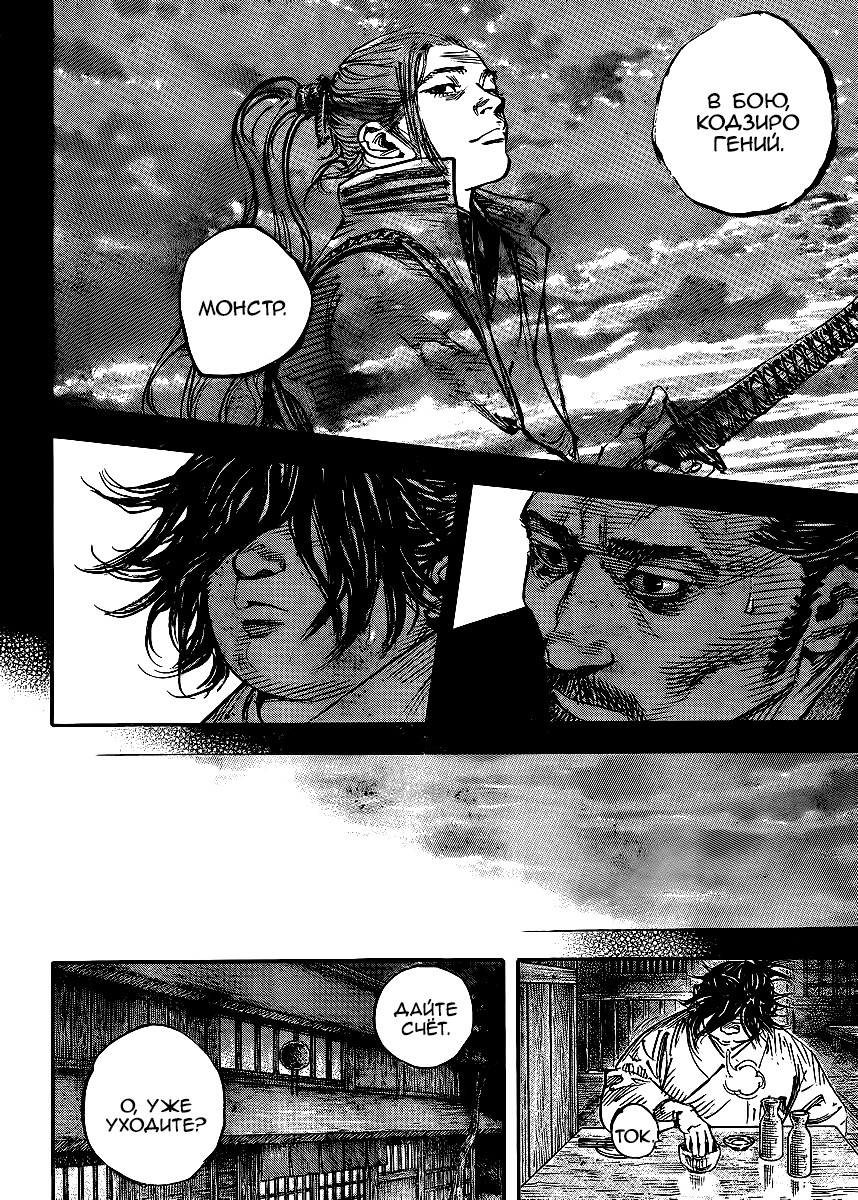frame: (52, 1, 858, 495), (49, 438, 459, 728), (51, 958, 505, 1200), (453, 484, 858, 723), (514, 959, 858, 1200)
